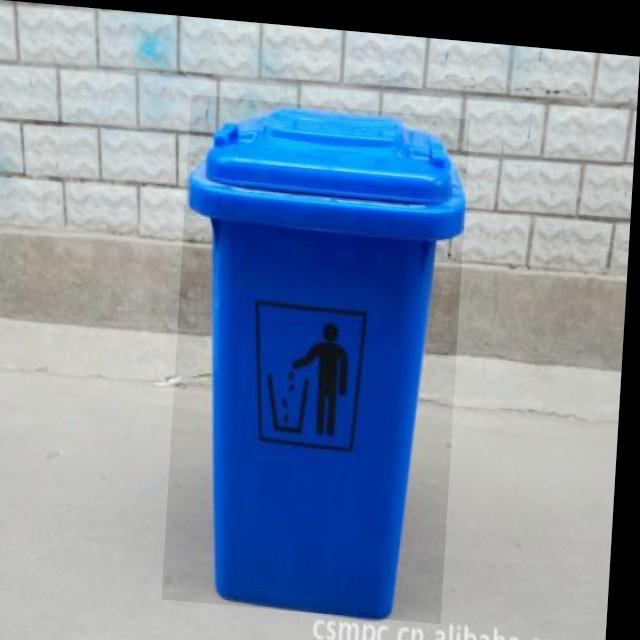garbage_bin: (169, 91, 471, 615)
